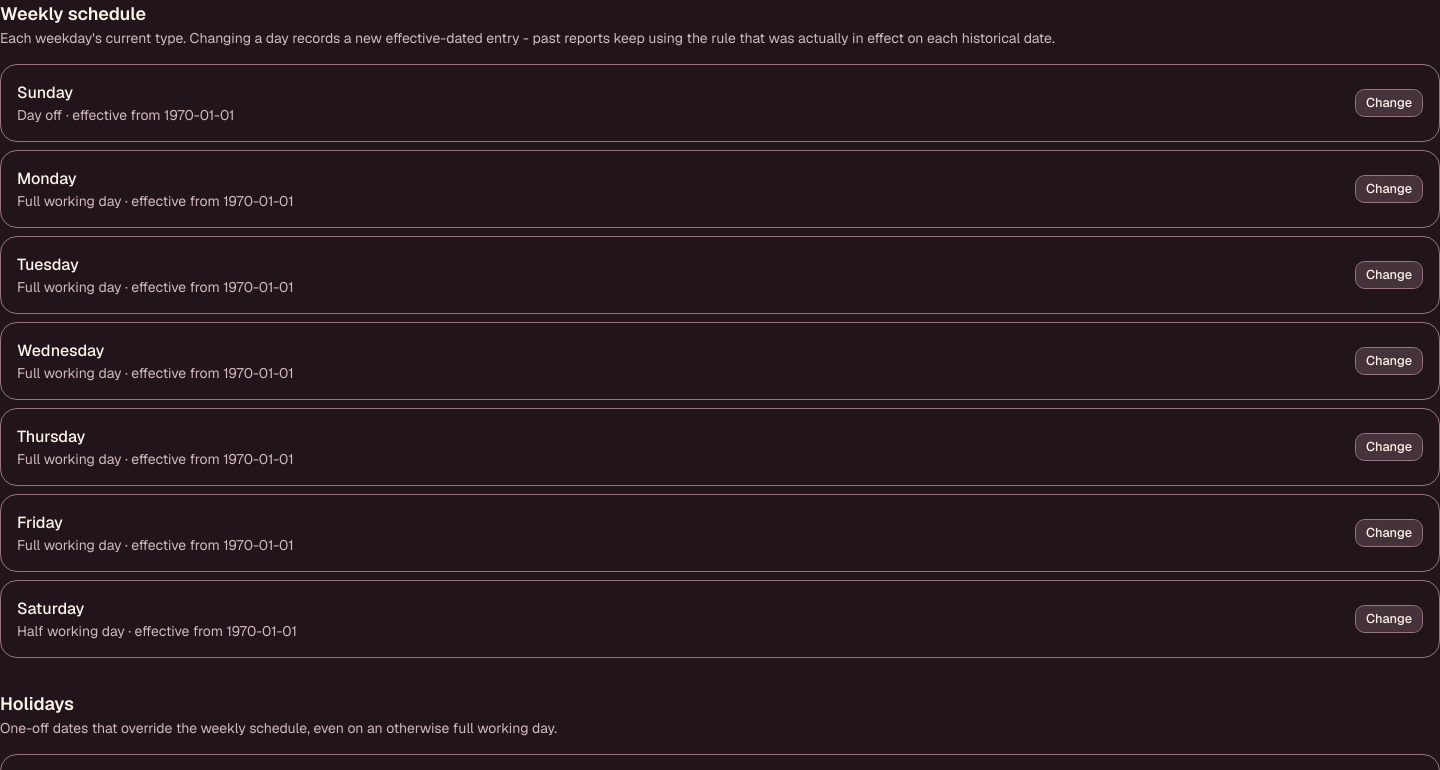
Test: AttendanceCalendarManager › shows a conflict message when a weekday change is already effective from that date
Expected: the text "Saturday" is shown, [17, 598, 84, 619]
Step 1. Click the button "Change" in the row of "Half working day" → (1389, 619), box [1355, 605, 1423, 633]
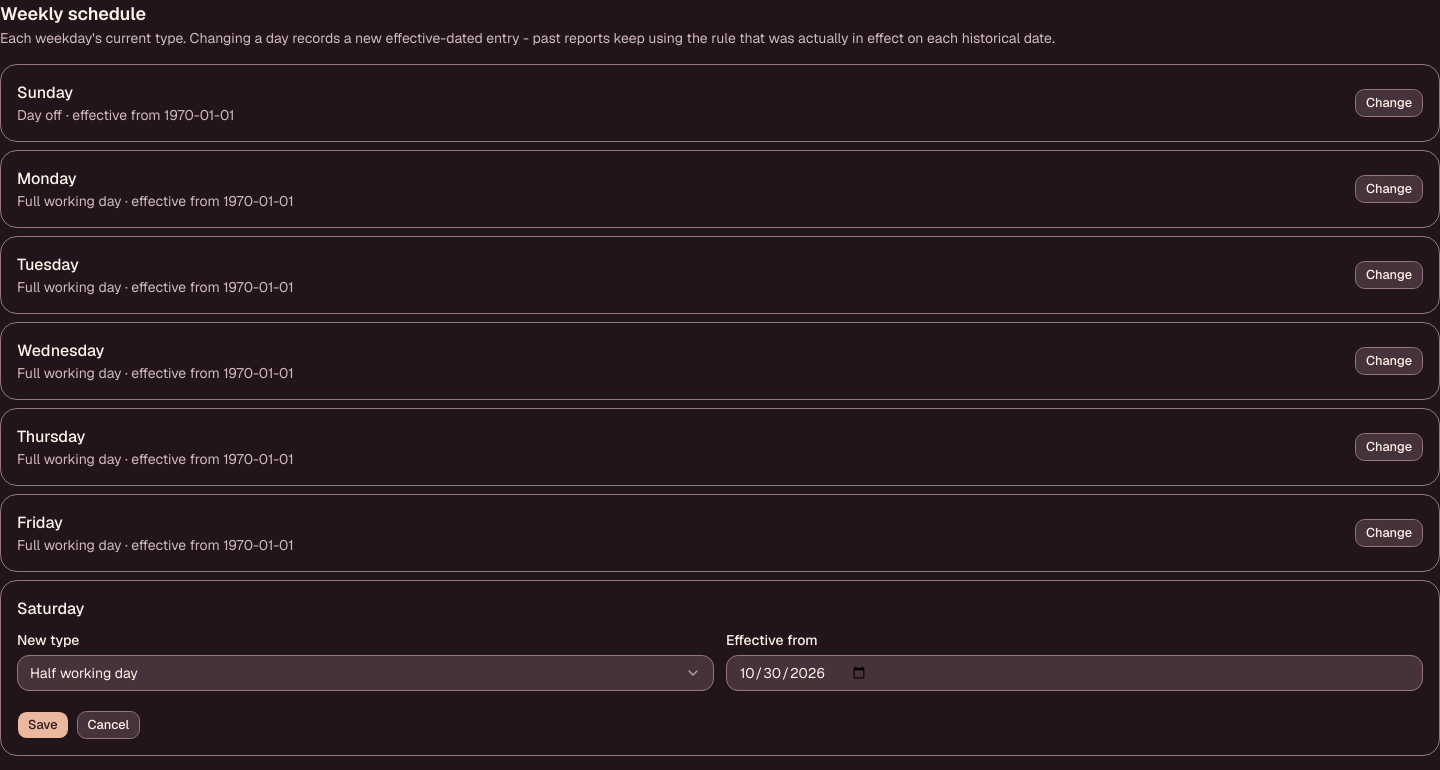
Step 2. Click the button "Save" → (43, 725), box [17, 711, 68, 739]
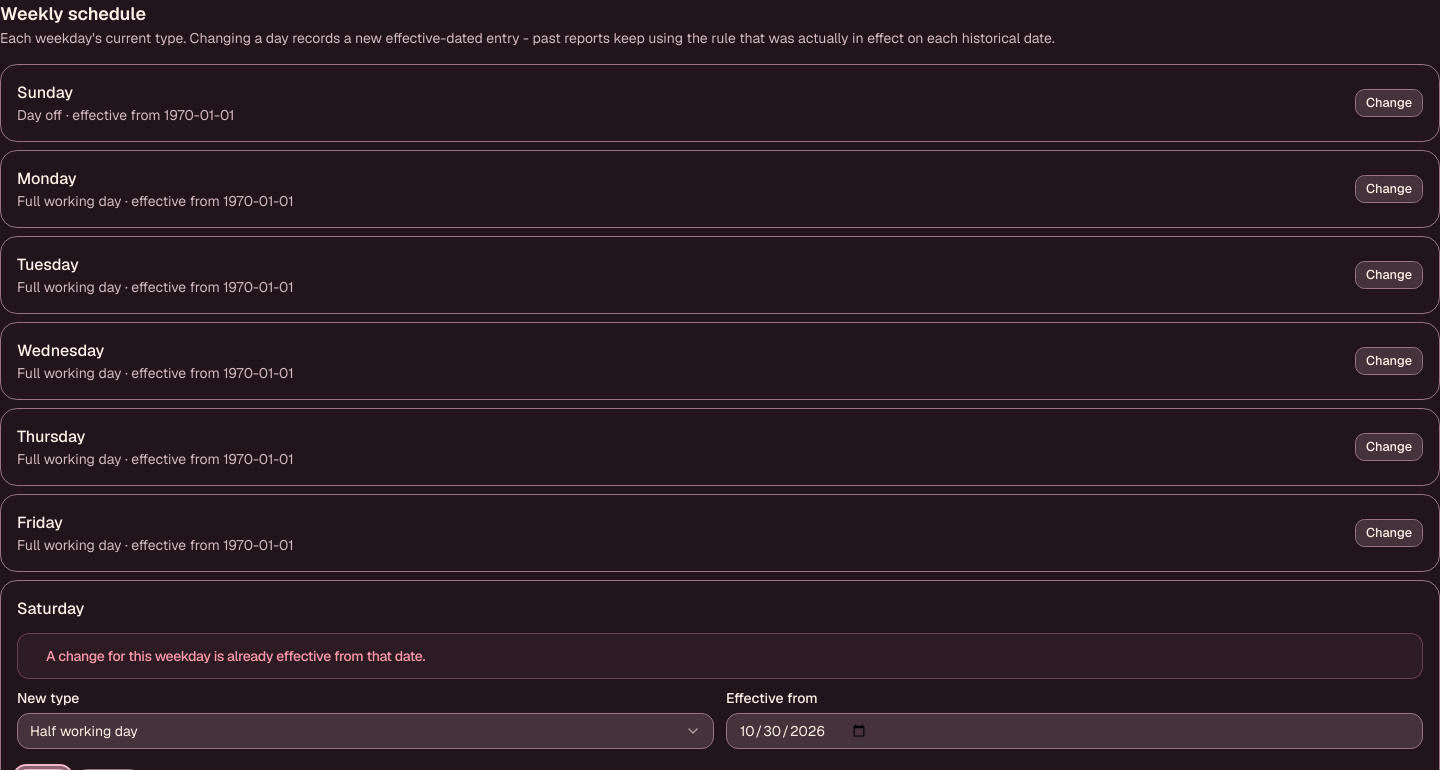
Expected: the text "A change for this weekday is already effective from that date." is shown, [46, 647, 425, 665]
